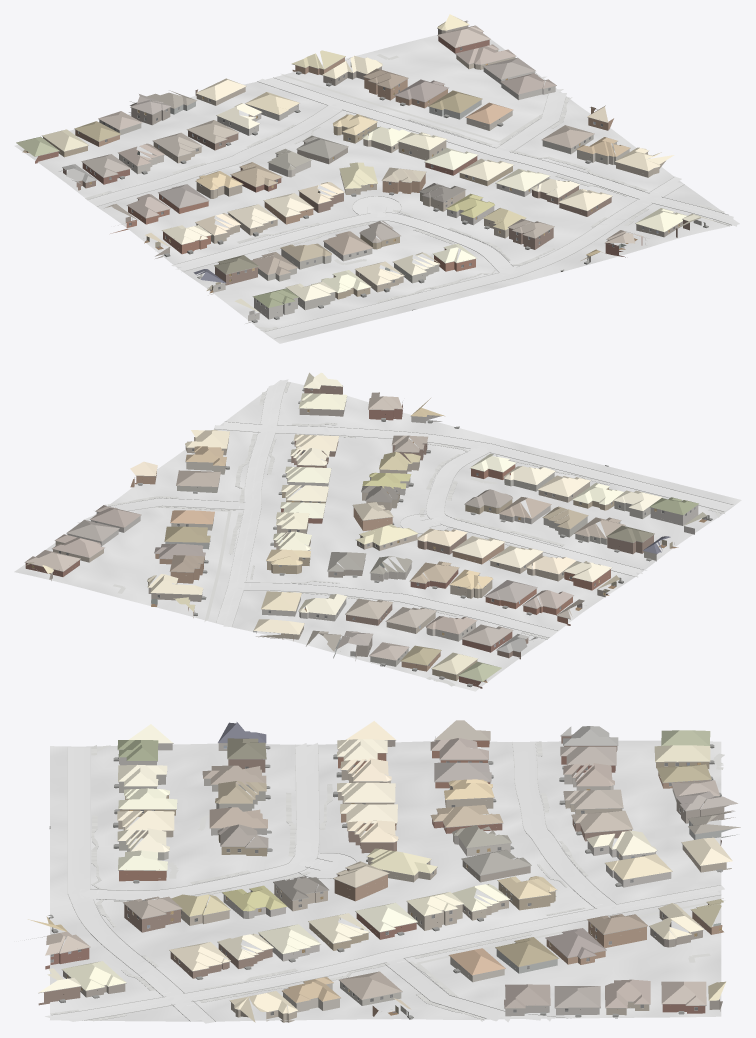
The picture shows the model from 3 angles, top to bottom: view 1: azimuth 30°, elevation 25°; view 2: azimuth 150°, elevation 25°; view 3: azimuth 270°, elevation 25°; orthographic projection. The views are drawn at different scales.
Visible parts, largest first — view 1: ground, roof, wall, concrete, wall_stucco, detail, asphalt, curb, walk, wall_stone, glass; view 2: ground, roof, concrete, wall, wall_stucco, asphalt, detail, walk, curb, wall_stone; view 3: ground, roof, concrete, wall, wall_stucco, asphalt, detail, walk, curb, wall_stone, glass, mark_w.
Boxes of the visible parts, <box> form: ground: <box>14,33,739,343</box>; roof: <box>16,14,714,312</box>; wall: <box>35,20,689,299</box>; concrete: <box>87,76,683,338</box>; wall_stucco: <box>99,50,629,310</box>; detail: <box>35,21,708,322</box>; asphalt: <box>258,78,737,226</box>; curb: <box>87,72,731,338</box>; walk: <box>85,54,731,331</box>; wall_stone: <box>217,68,590,323</box>; glass: <box>78,28,674,308</box>; ground: <box>14,380,741,691</box>; roof: <box>25,372,706,681</box>; concrete: <box>77,422,732,637</box>; wall: <box>25,385,653,688</box>; wall_stucco: <box>53,453,656,666</box>; asphalt: <box>216,379,288,626</box>; detail: <box>25,385,712,687</box>; walk: <box>105,382,724,686</box>; curb: <box>109,382,732,639</box>; wall_stone: <box>67,415,698,621</box>; ground: <box>50,740,721,1021</box>; roof: <box>28,720,740,1022</box>; concrete: <box>68,741,616,1023</box>; wall: <box>38,734,735,1022</box>; wall_stucco: <box>119,743,737,1015</box>; asphalt: <box>45,885,724,1021</box>; detail: <box>24,735,731,1019</box>; walk: <box>50,741,725,1021</box>; curb: <box>51,741,720,1021</box>; wall_stone: <box>51,743,671,1016</box>; glass: <box>50,746,697,1015</box>; mark_w: <box>53,860,720,1020</box>.
Size of the model in its own units: 269 by 14.26 by 271.
